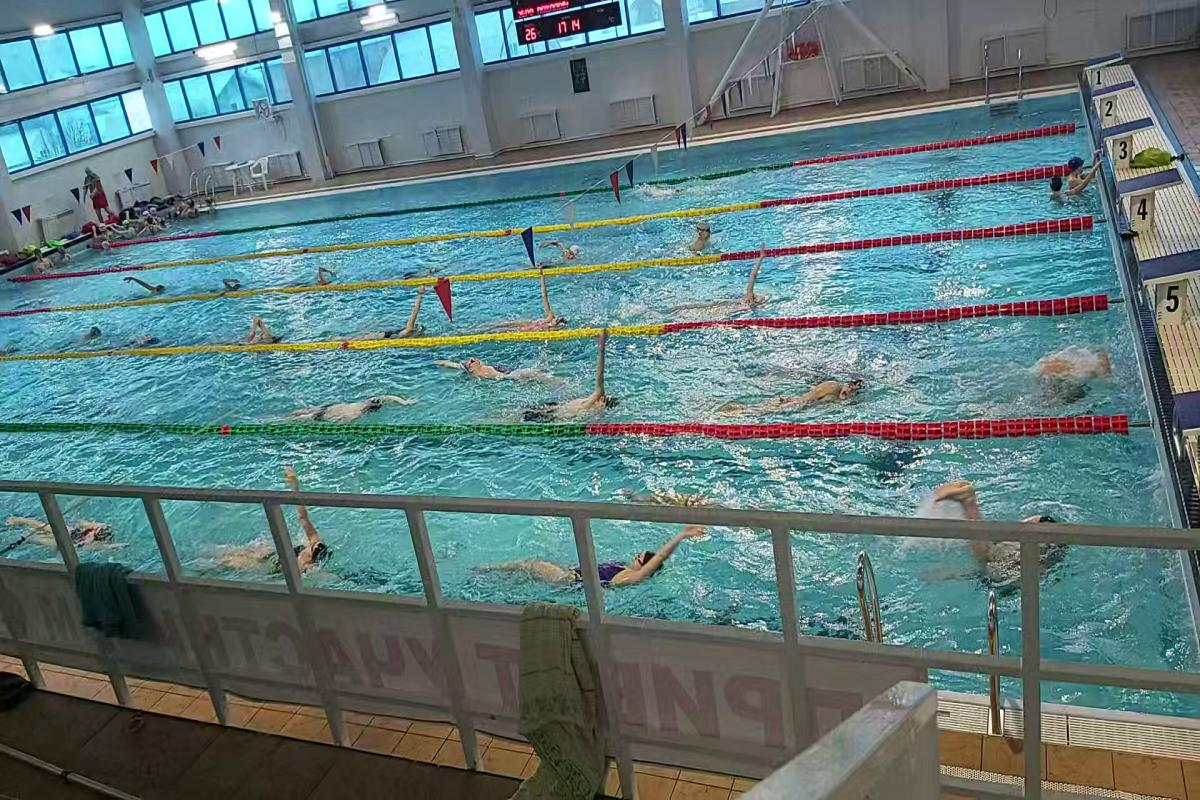swimmer: (927, 469, 1071, 608), (481, 523, 708, 596), (197, 513, 342, 580), (719, 368, 870, 422), (1034, 330, 1126, 417), (545, 332, 626, 422), (424, 350, 566, 388), (0, 516, 134, 554), (280, 389, 420, 424), (683, 267, 767, 315), (508, 269, 566, 329), (360, 291, 432, 339), (688, 214, 721, 253), (535, 235, 582, 261), (246, 317, 290, 344), (124, 274, 170, 295), (312, 262, 336, 284), (218, 276, 246, 291)
